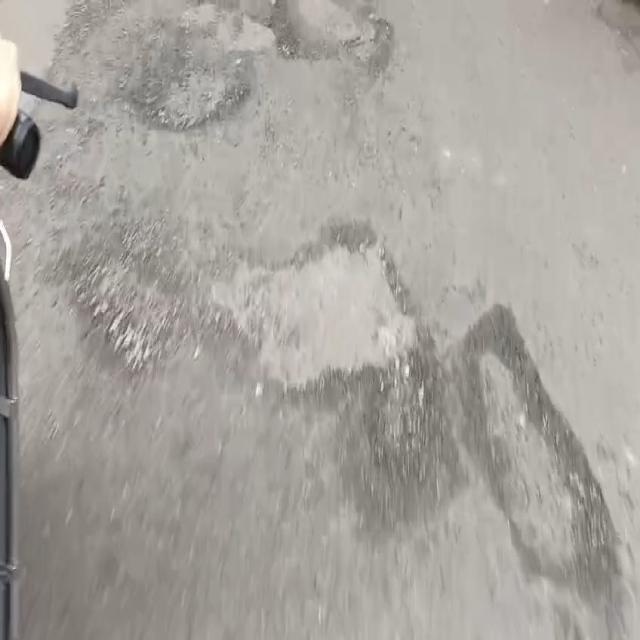road-pothole: (186, 233, 474, 535), (454, 309, 625, 626), (42, 211, 189, 381), (121, 21, 248, 132), (253, 0, 384, 79)
